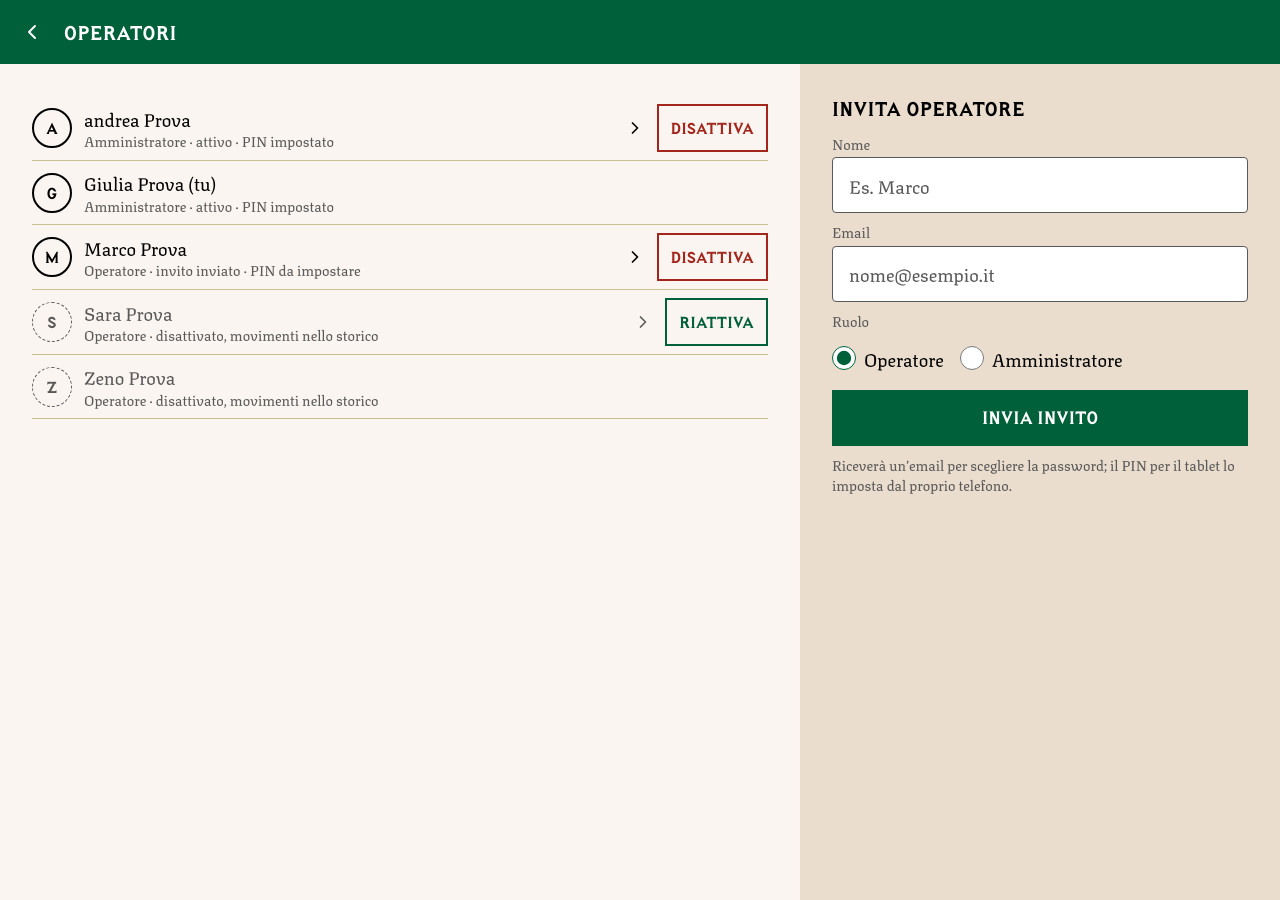
Test: OperatorsPage: Disattiva e Riattiva › reactivates after the confirmation
Click the button "Riattiva": (717, 322) top-left (665, 298), bottom-right (768, 346)
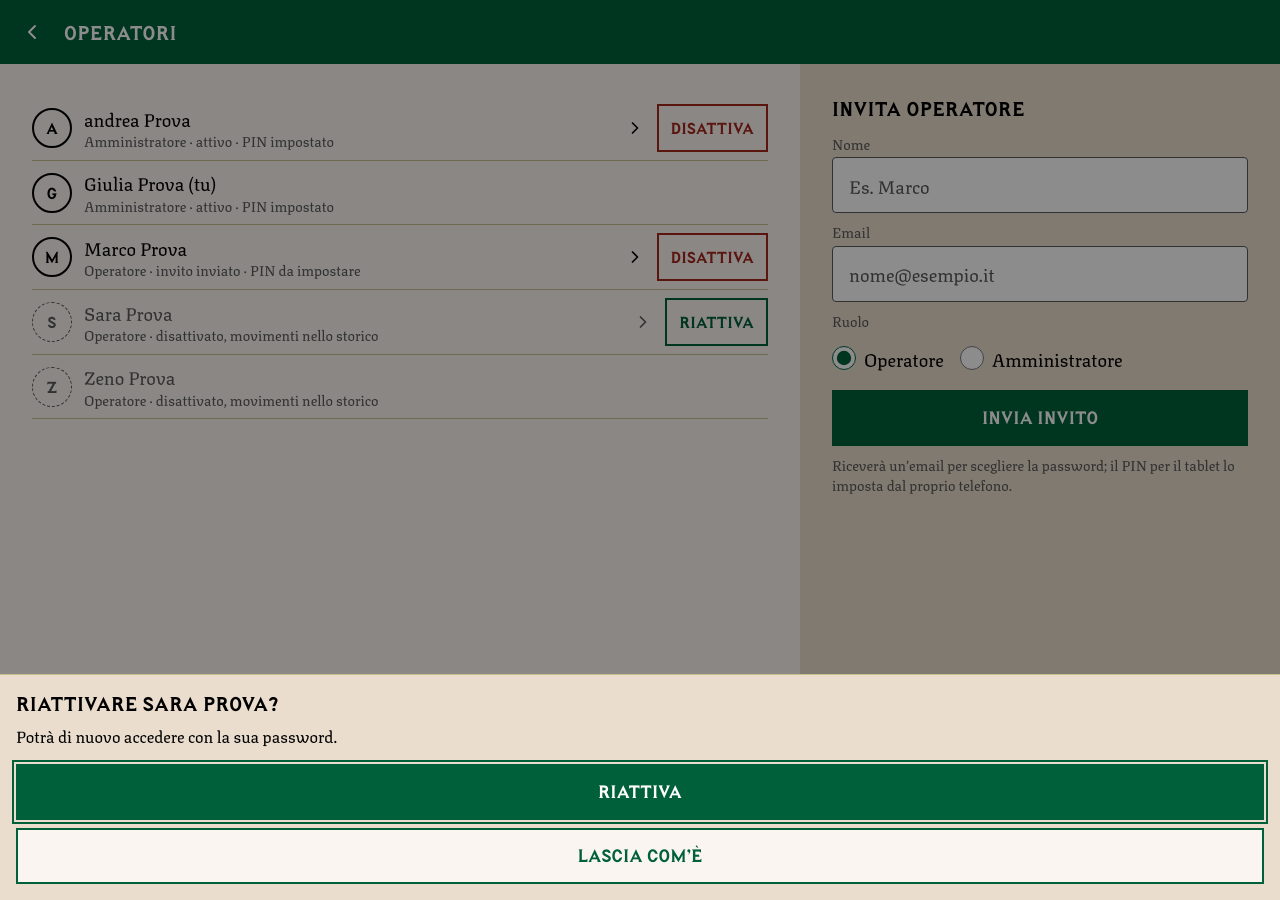
Expected: the heading "Riattivare Sara Prova?" is shown, top-left (16, 692), bottom-right (279, 715)
Click the button "Riattiva": (640, 792) top-left (16, 764), bottom-right (1264, 820)
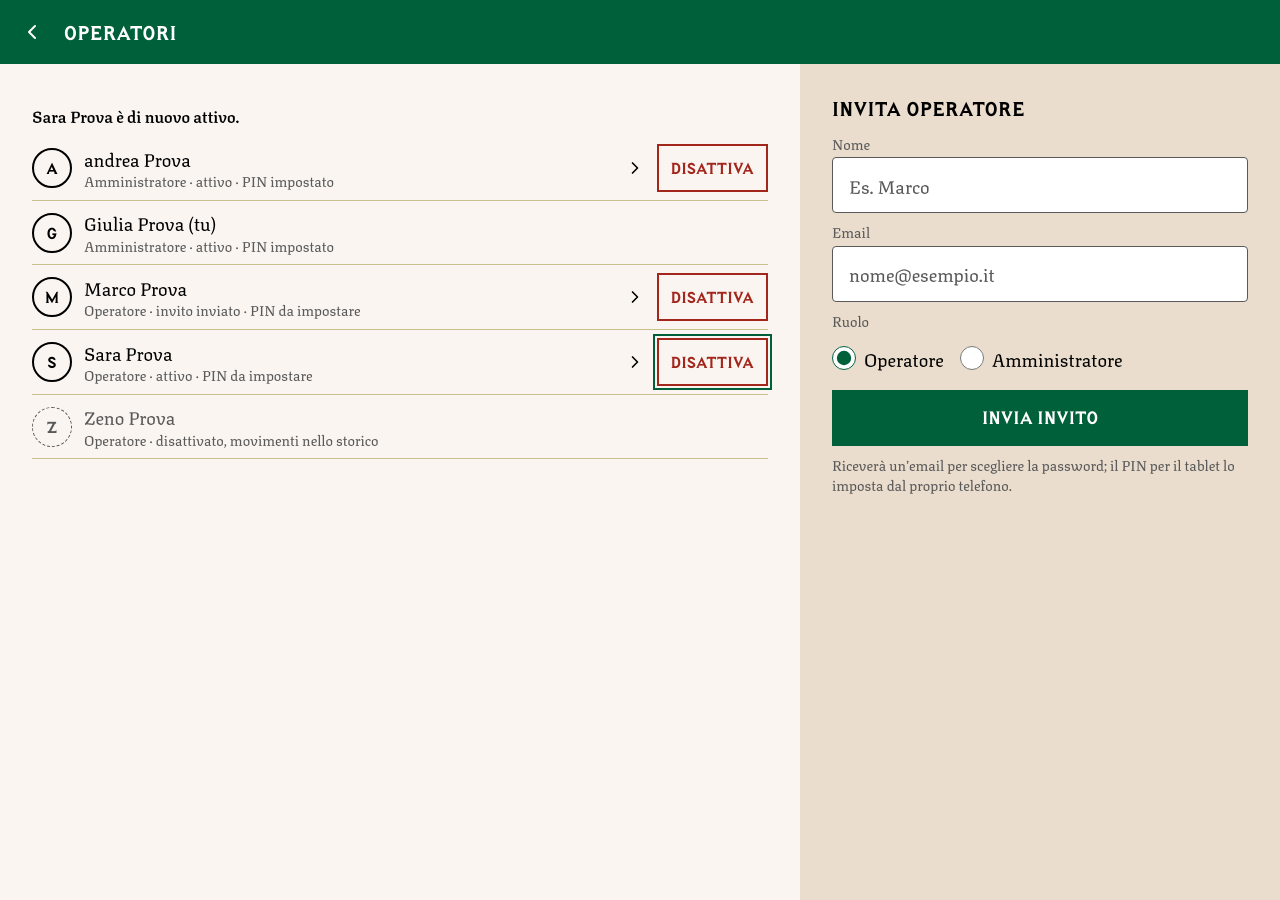
Expected: the text "Sara Prova è di nuovo attivo." is shown, top-left (32, 103), bottom-right (239, 128)
Expected: the list item "S Sara Prova Operatore · attivo · PIN da impostare Disattiva" is shown, top-left (32, 330), bottom-right (768, 395)
